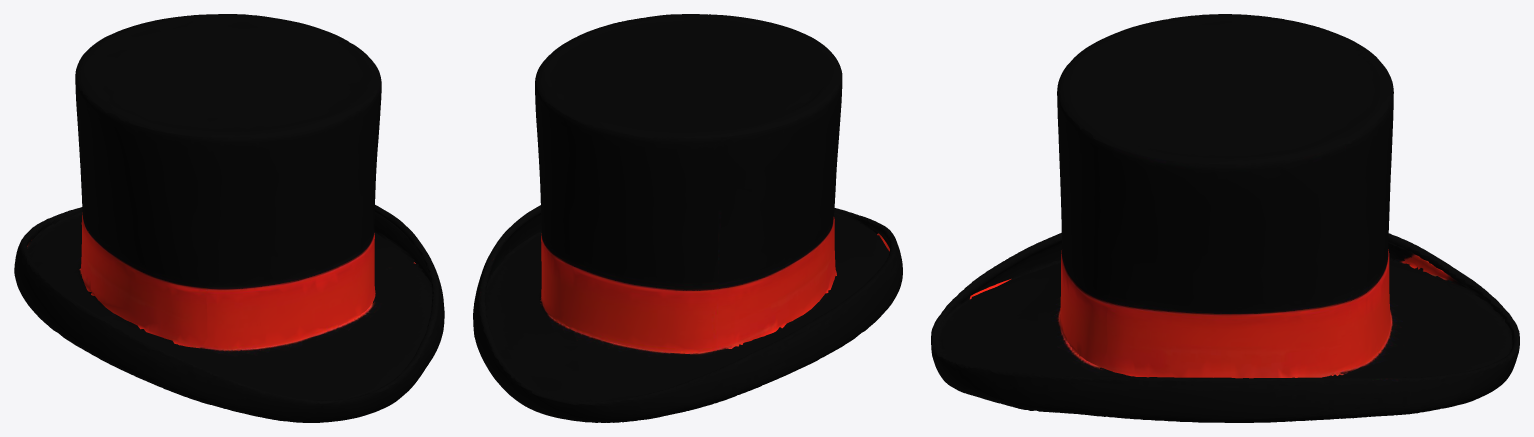
3 views of the same model, side by side, from view 1: azimuth 30°, elevation 25°; view 2: azimuth 150°, elevation 25°; view 3: azimuth 270°, elevation 25° (orthographic). The views are drawn at different scales.
Parts seen in each view (by area): view 1: textured_mesh.obj; view 2: textured_mesh.obj; view 3: textured_mesh.obj.
Boxes of the visible parts, x1,y1,x2,y2 form: textured_mesh.obj: (14,14,444,422); textured_mesh.obj: (473,14,902,422); textured_mesh.obj: (931,14,1519,422).
Size of the model in its own units: 1.5 by 1.05 by 1.99.
Materials: 1 (1 with a texture image).
